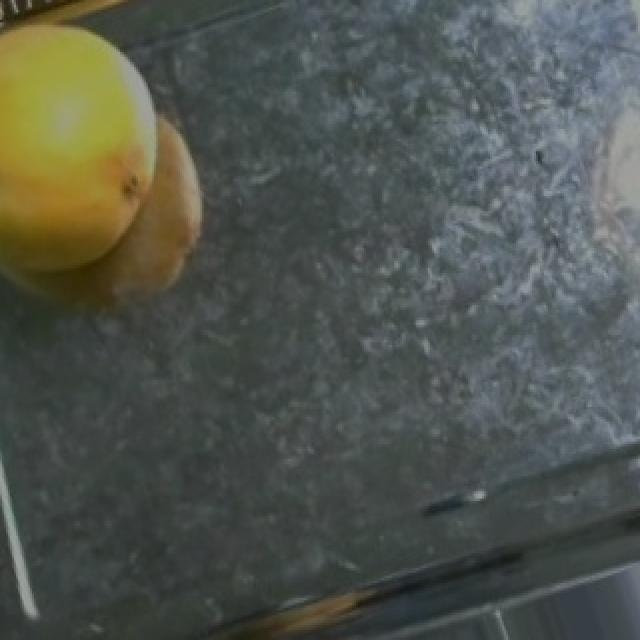fruit: (0, 0, 246, 313)
